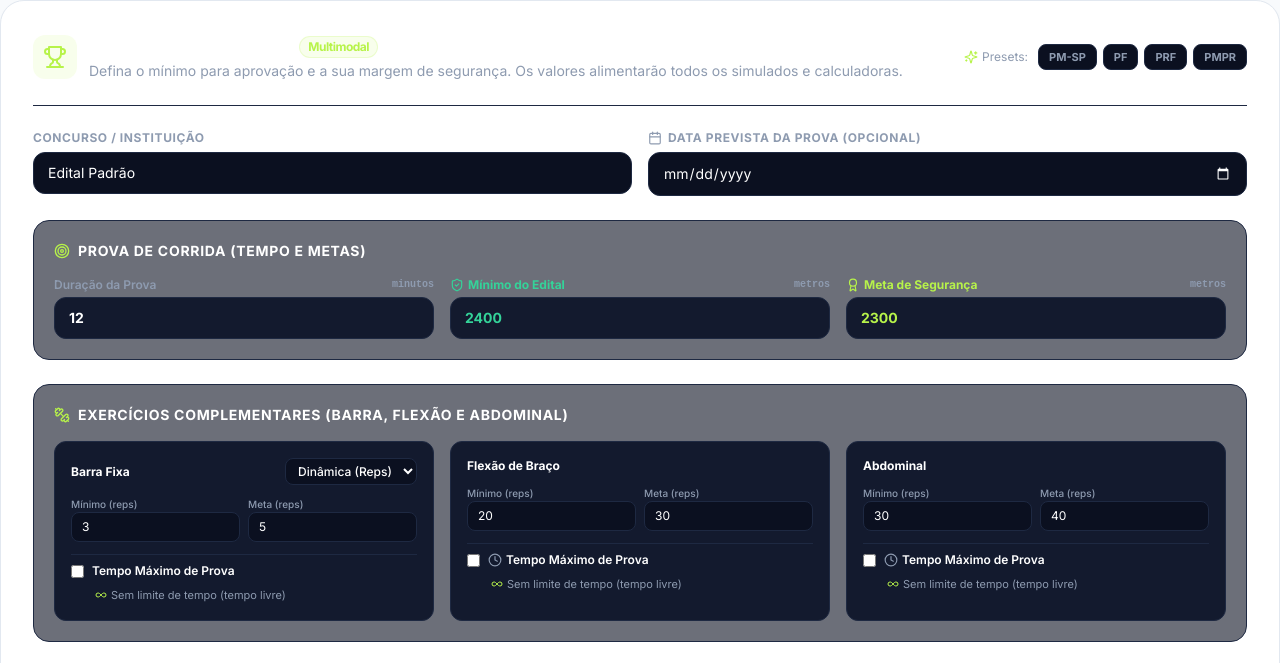
it: TafGoalConfigCard Component › alterna corretamente entre barra dinâmica e barra em isometria
Expected: the heading "Metas do TAF & Edital Multimodal" is shown, [89,35,378,59]
Expected: the text "Mínimo (reps)" is shown 3 times, [71,498,137,510]; [467,487,533,499]; [863,487,929,499]
Select "Isometria (Seg)" in the dropdown at (351, 472), box [285,458,417,485]
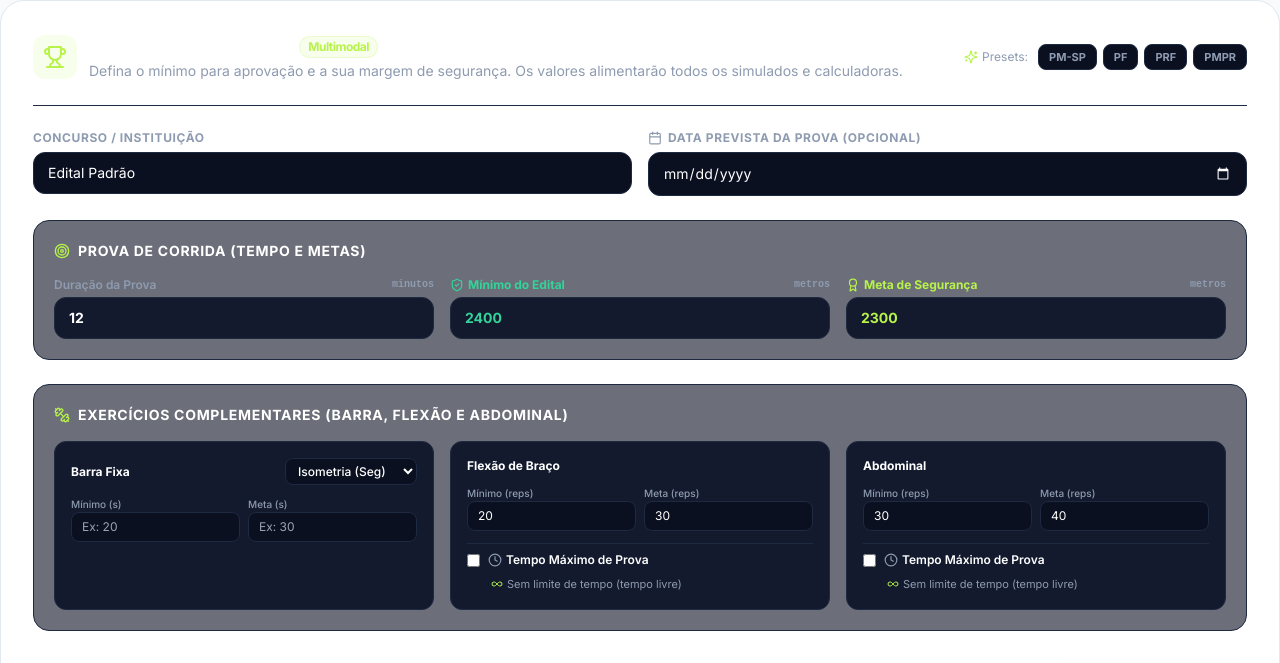
Expected: the text "Mínimo (s)" is shown, [71,498,122,510]
